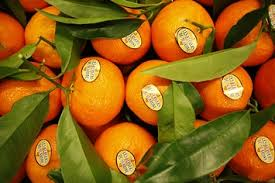orange: (60, 56, 126, 124), (126, 60, 189, 130), (89, 122, 161, 183), (192, 59, 257, 123), (21, 121, 77, 183)
